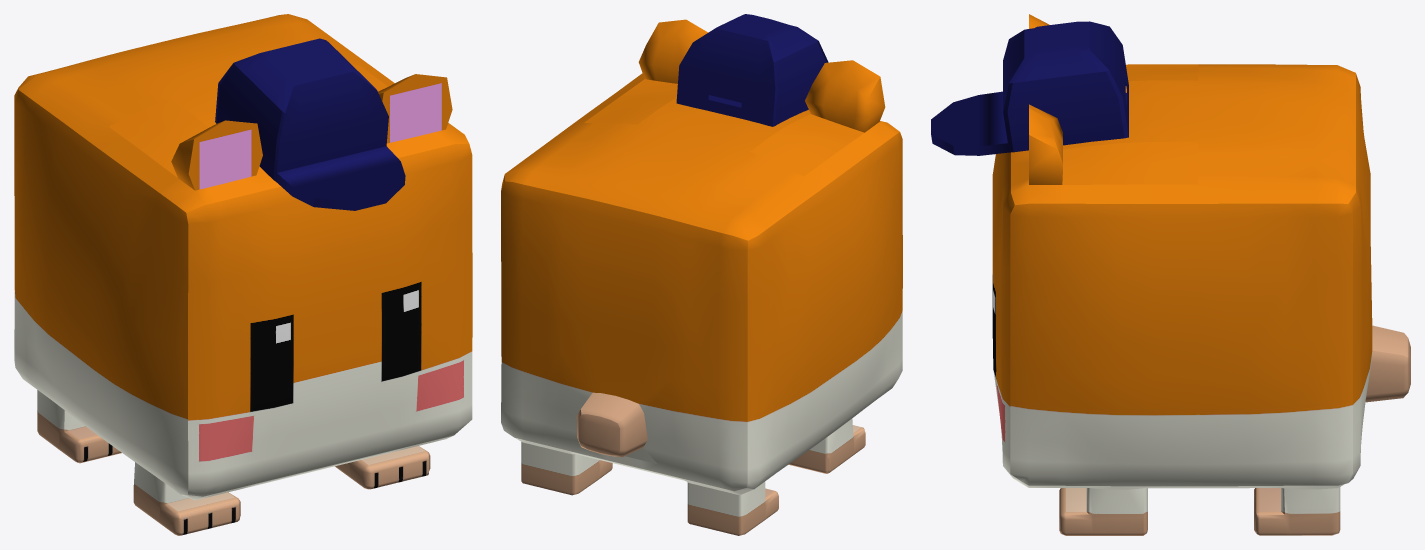
File: CapFrontRun.fbx
3 views of the same model, side by side, from view 1: azimuth 30°, elevation 25°; view 2: azimuth 150°, elevation 25°; view 3: azimuth 270°, elevation 25° (orthographic). The views are drawn at different scales.
Parts seen in each view (by area): view 1: CAP:CAP:Box003; view 2: CAP:CAP:Box003; view 3: CAP:CAP:Box003.
Boxes of the visible parts, x1,y1,x2,y2 form: CAP:CAP:Box003: (14,14,472,535); CAP:CAP:Box003: (501,14,902,535); CAP:CAP:Box003: (931,14,1410,535).
Bounding box in the file's own units: 4.23 × 5.67 × 5.52.
